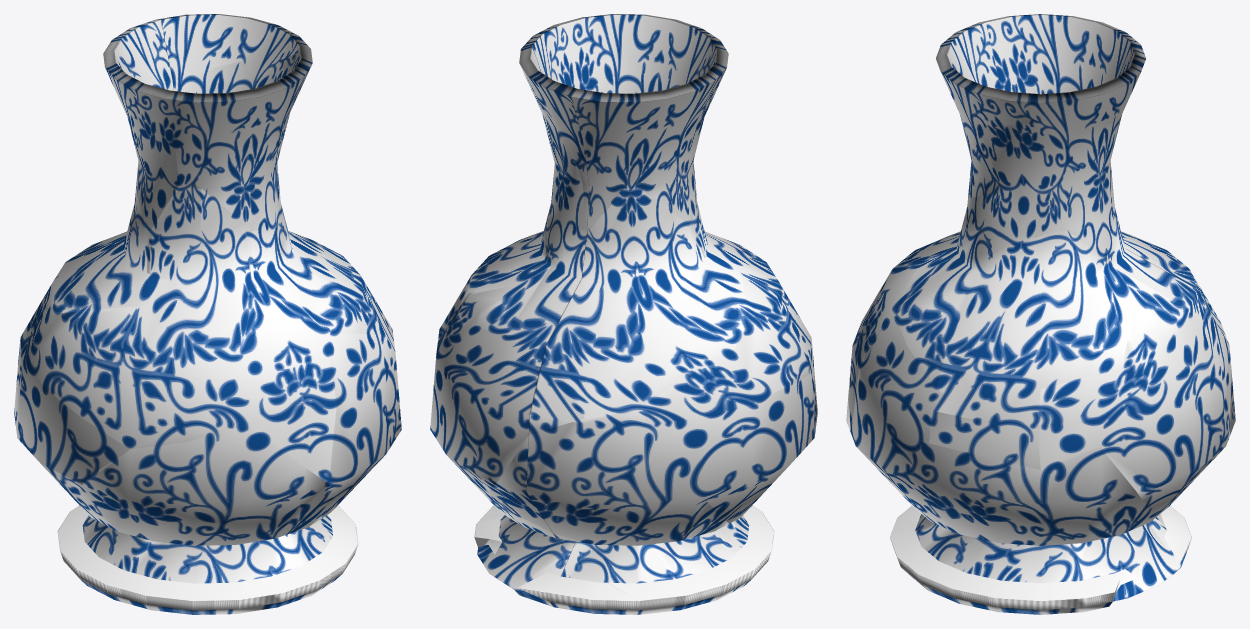
The model's file is Vase_Broken.fbx.
The picture shows the model from 3 angles, left to right: view 1: azimuth 30°, elevation 25°; view 2: azimuth 150°, elevation 25°; view 3: azimuth 270°, elevation 25°; orthographic projection.
Visible parts, largest first — view 1: polySurface24, polySurface25, polySurface37, polySurface30, polySurface26, polySurface29, polySurface31, polySurface28, polySurface35, polySurface32, polySurface34; view 2: polySurface29, polySurface35, polySurface27, polySurface37, polySurface24, polySurface30, polySurface31, polySurface32, polySurface28; view 3: polySurface28, polySurface26, polySurface27, polySurface29, polySurface37, polySurface31, polySurface30, polySurface24, polySurface34, polySurface35.
Boxes of the visible parts, <box> form: polySurface24: <box>20,175,336,483</box>; polySurface25: <box>76,424,328,614</box>; polySurface37: <box>103,14,277,234</box>; polySurface30: <box>165,45,312,226</box>; polySurface26: <box>266,333,401,608</box>; polySurface29: <box>41,24,310,314</box>; polySurface31: <box>57,505,358,610</box>; polySurface28: <box>250,203,384,334</box>; polySurface35: <box>14,339,129,531</box>; polySurface32: <box>81,518,142,600</box>; polySurface34: <box>360,276,395,350</box>; polySurface29: <box>469,24,746,418</box>; polySurface35: <box>486,368,814,614</box>; polySurface27: <box>430,284,639,610</box>; polySurface37: <box>519,45,728,228</box>; polySurface24: <box>573,161,813,424</box>; polySurface30: <box>551,14,728,93</box>; polySurface31: <box>474,505,774,610</box>; polySurface32: <box>637,509,750,614</box>; polySurface28: <box>459,203,551,306</box>; polySurface28: <box>892,210,1133,470</box>; polySurface26: <box>851,309,1150,614</box>; polySurface27: <box>1037,279,1230,601</box>; polySurface29: <box>968,92,1216,349</box>; polySurface37: <box>979,14,1145,200</box>; polySurface31: <box>890,506,1124,610</box>; polySurface30: <box>936,21,1040,203</box>; polySurface24: <box>848,197,1221,431</box>; polySurface34: <box>936,342,992,421</box>; polySurface35: <box>1150,366,1235,574</box>.
Size of the model in its own units: 64.4 by 91.53 by 64.4.
